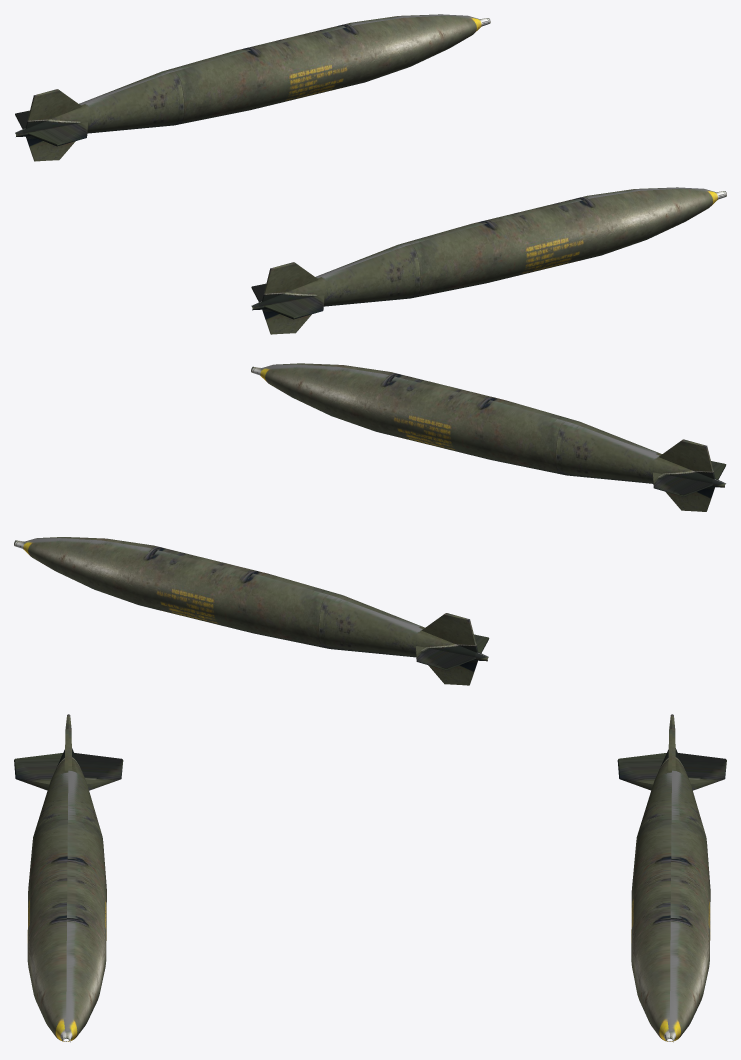
3 renders of one model, top to bottom at view 1: azimuth 30°, elevation 25°; view 2: azimuth 150°, elevation 25°; view 3: azimuth 270°, elevation 25°, orthographic. The views are drawn at different scales.
Parts seen in each view (by area): view 1: bomb1, bomb2; view 2: bomb2, bomb1; view 3: bomb1, bomb2.
Boxes of the visible parts, <box> form: bomb1: <box>15,14,490,161</box>; bomb2: <box>251,187,726,334</box>; bomb2: <box>251,363,726,511</box>; bomb1: <box>14,537,489,685</box>; bomb1: <box>617,714,726,1042</box>; bomb2: <box>14,714,123,1042</box>.
Size of the model in its own units: 437 by 62.32 by 447.
2 materials, 2 textured.
